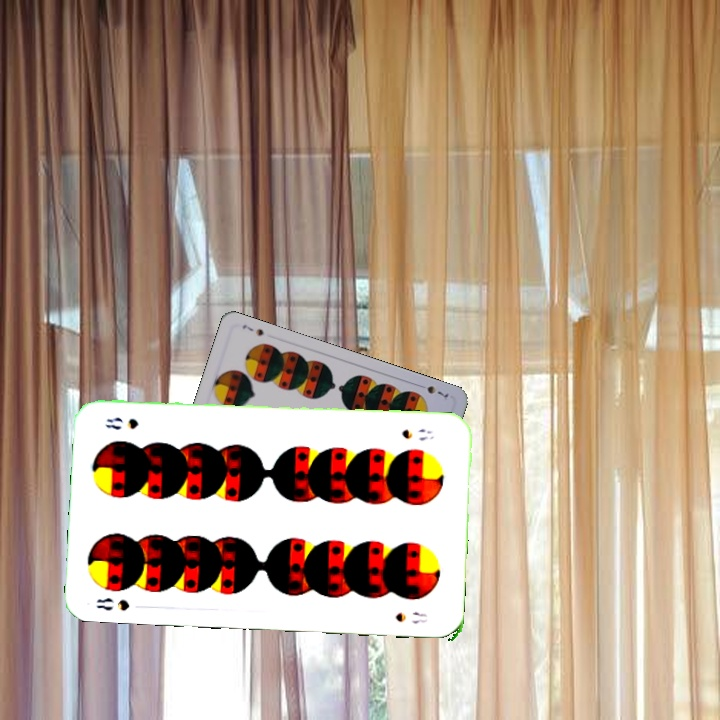S7: (413, 380, 451, 400)
S8: (92, 594, 133, 614), (398, 425, 436, 444)
